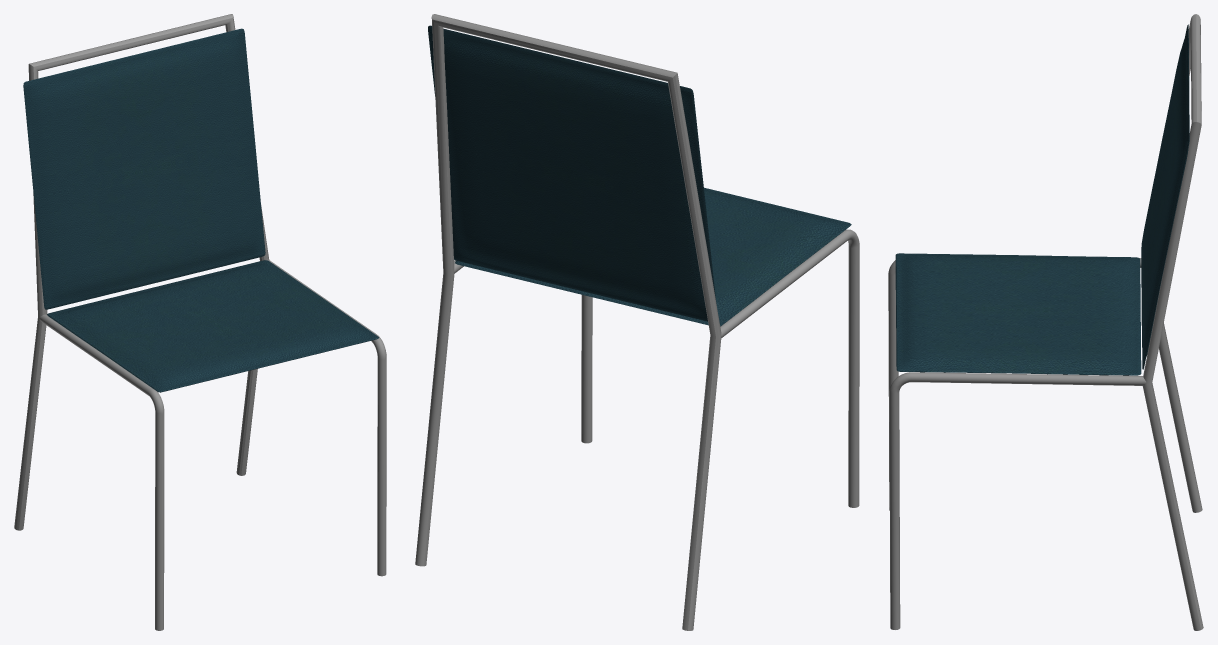
Rendered from Chair 2.FBX.
The picture shows the model from 3 angles, left to right: view 1: azimuth 30°, elevation 25°; view 2: azimuth 150°, elevation 25°; view 3: azimuth 270°, elevation 25°; orthographic projection. The views are drawn at different scales.
Visible parts, largest first — view 1: Chair 2; view 2: Chair 2; view 3: Chair 2.
Part boxes in pixels (x1,y1,x2,y2): Chair 2: (14, 14, 386, 630); Chair 2: (415, 14, 859, 630); Chair 2: (888, 14, 1203, 630).
Bounding box in the file's own units: 50.84 × 97.03 × 55.16.
2 materials, 1 textured.
